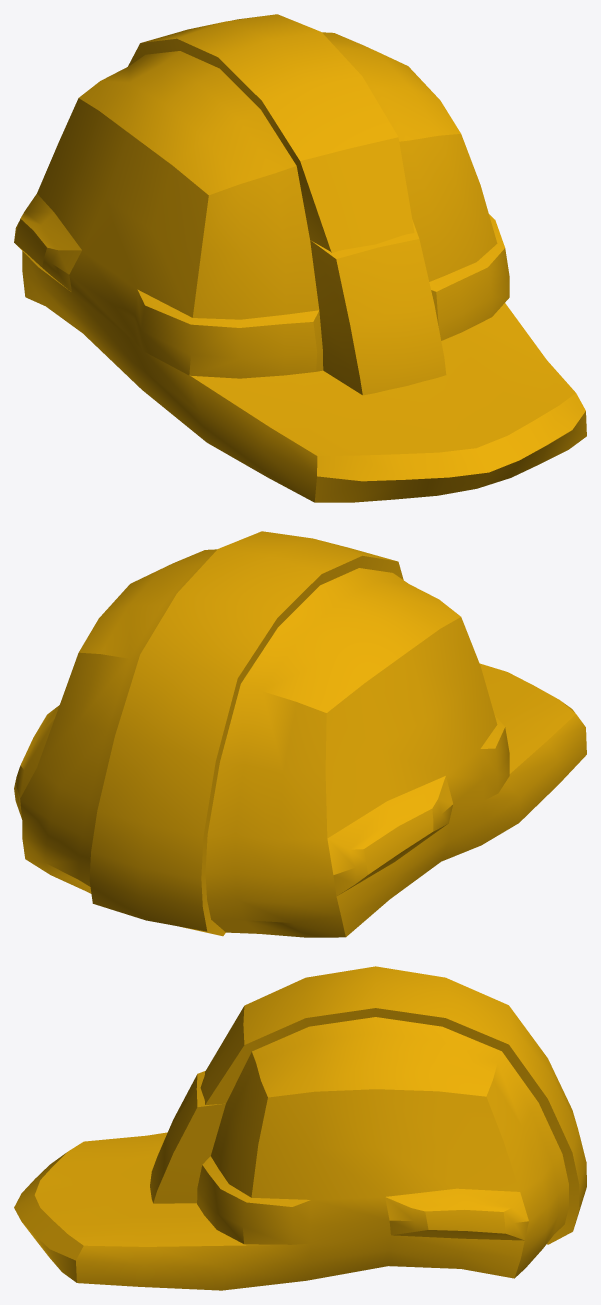
File: hard-hat.glb
3 renders of one model, top to bottom at view 1: azimuth 30°, elevation 25°; view 2: azimuth 150°, elevation 25°; view 3: azimuth 270°, elevation 25°, orthographic. The views are drawn at different scales.
Visible parts, largest first — view 1: Cube; view 2: Cube; view 3: Cube.
Boxes of the visible parts, x1,y1,x2,y2 form: Cube: [14, 14, 586, 502]; Cube: [14, 531, 586, 937]; Cube: [14, 966, 586, 1290].
Size of the model in its own units: 0.9692 by 0.704 by 1.49.
